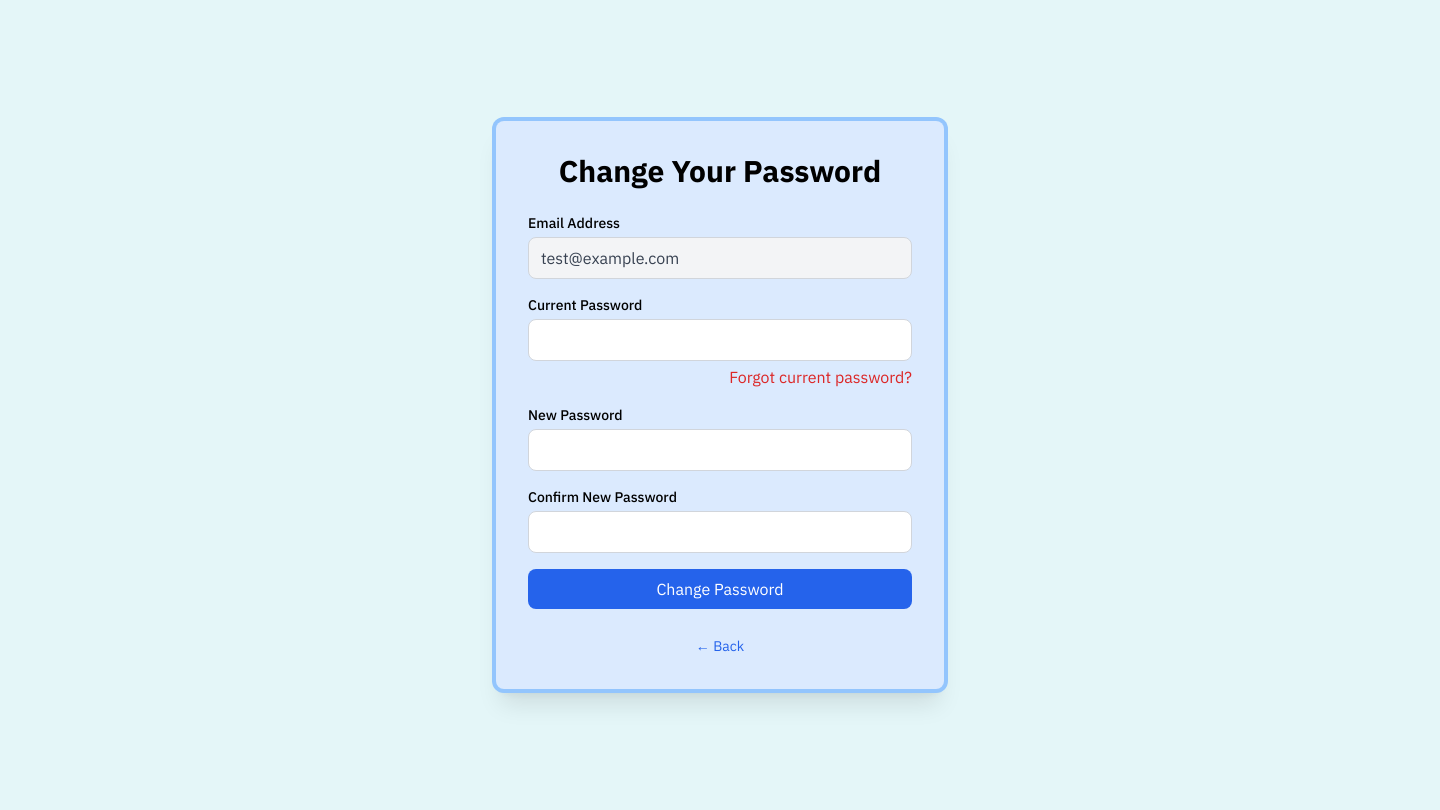
Test: ChangePassword › successfully changes password
In the password field labelled "Current Password": [720, 340] box [528, 319, 912, 361], type "OldPass123!"
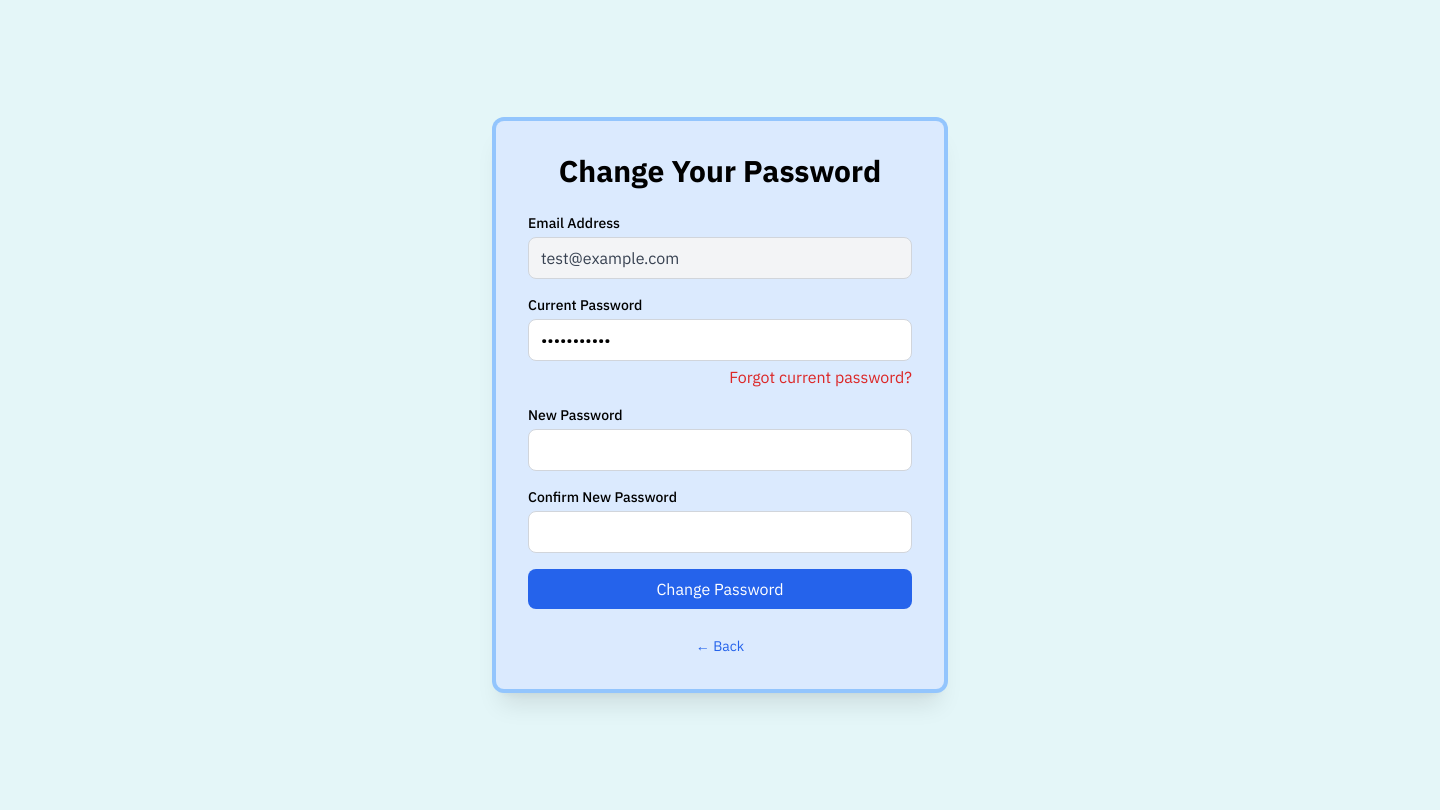
In the password field labelled "New Password": [720, 450] box [528, 429, 912, 471], type "NewPass123!"
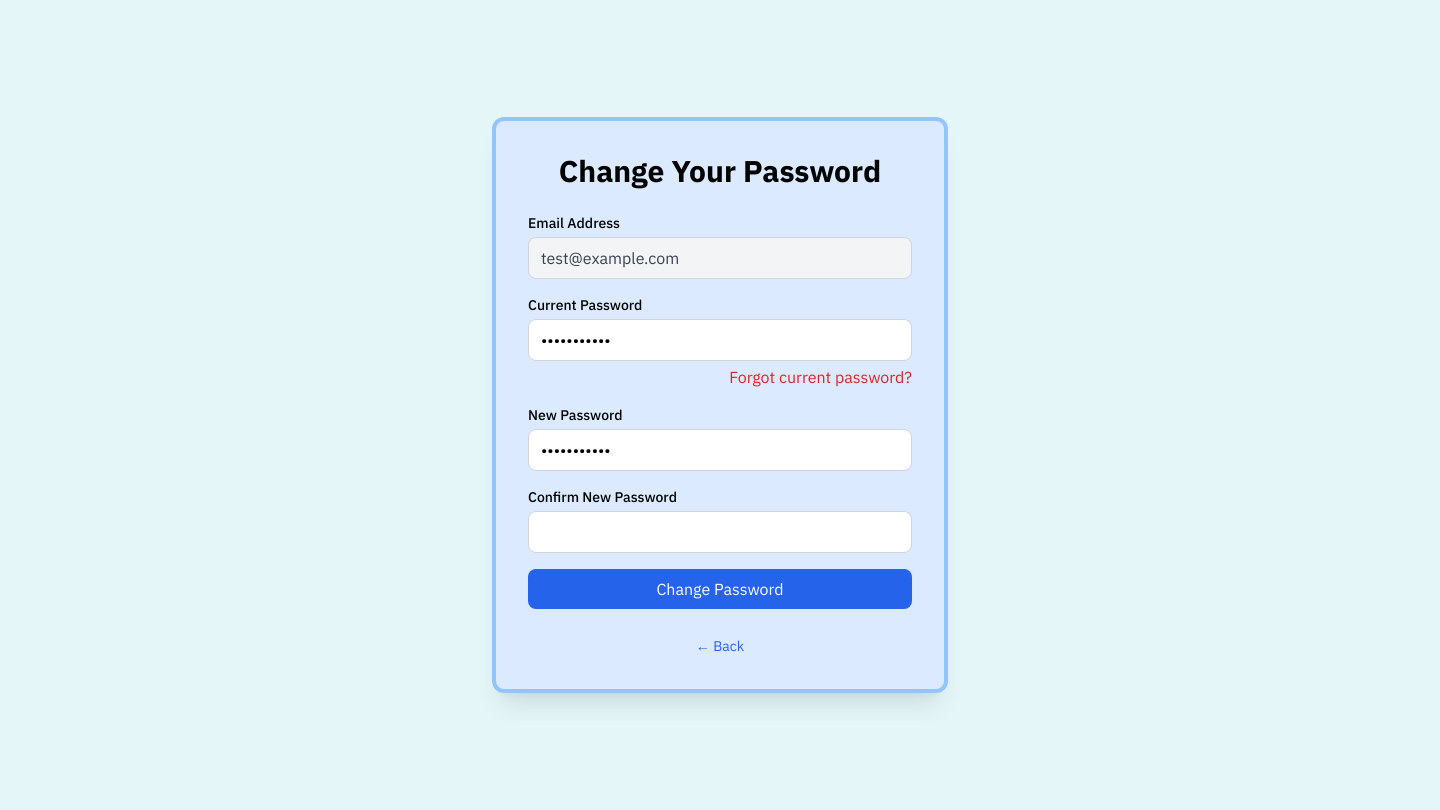
In the password field labelled "Confirm New Password": [720, 532] box [528, 511, 912, 553], type "NewPass123!"
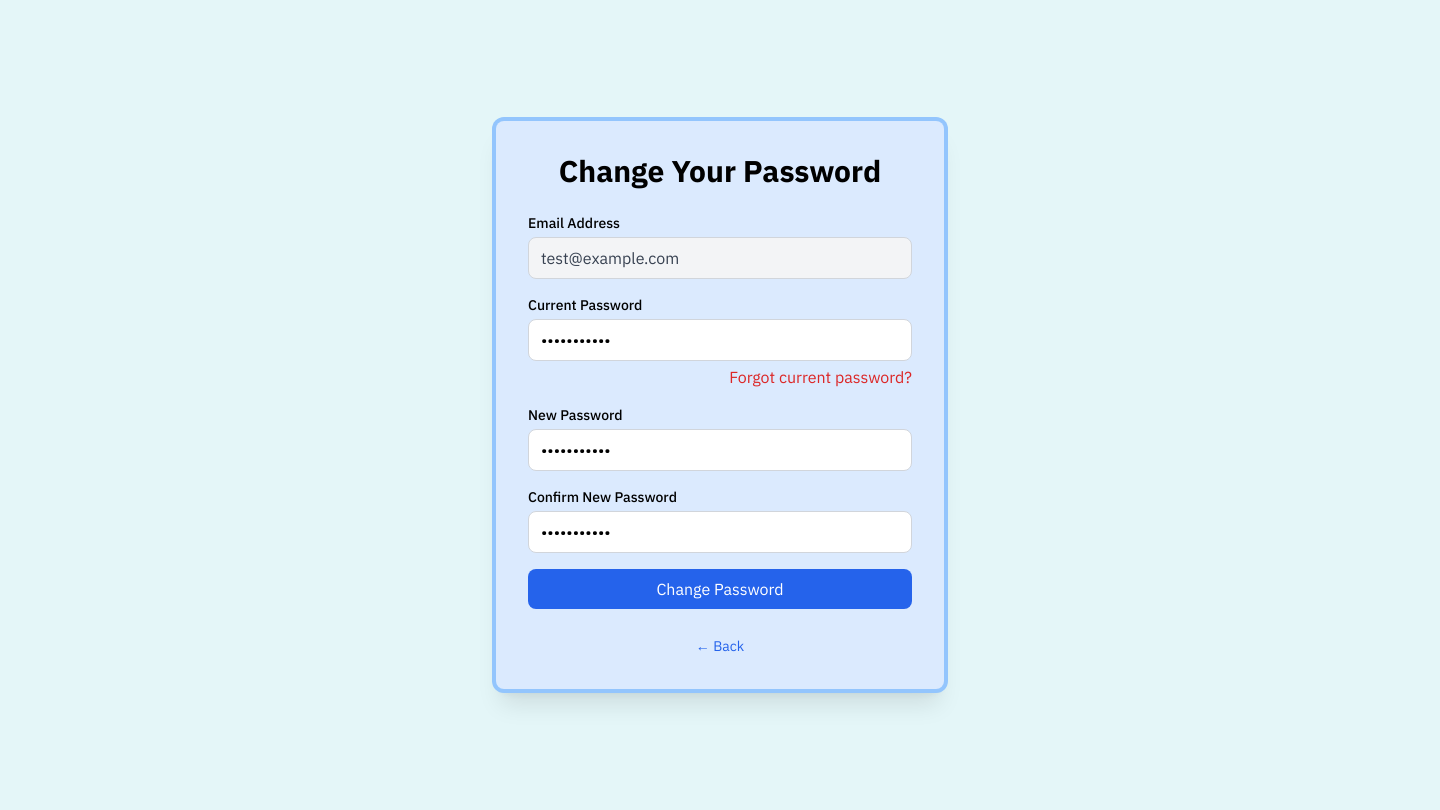
Click the button "Change Password": [720, 589] box [528, 569, 912, 609]
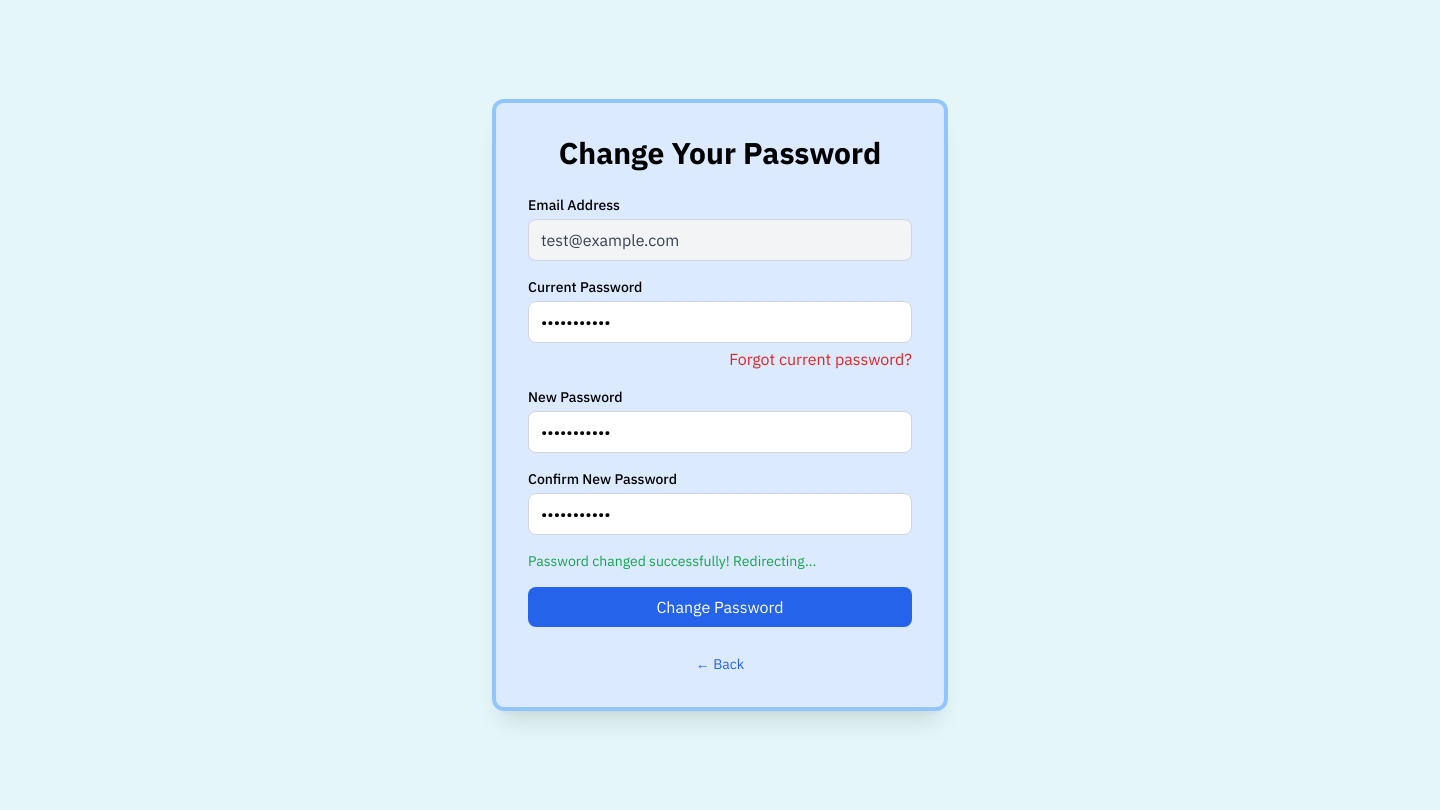
Now the text "Password changed successfully! Redirecting..." is shown, box [528, 552, 816, 570]
